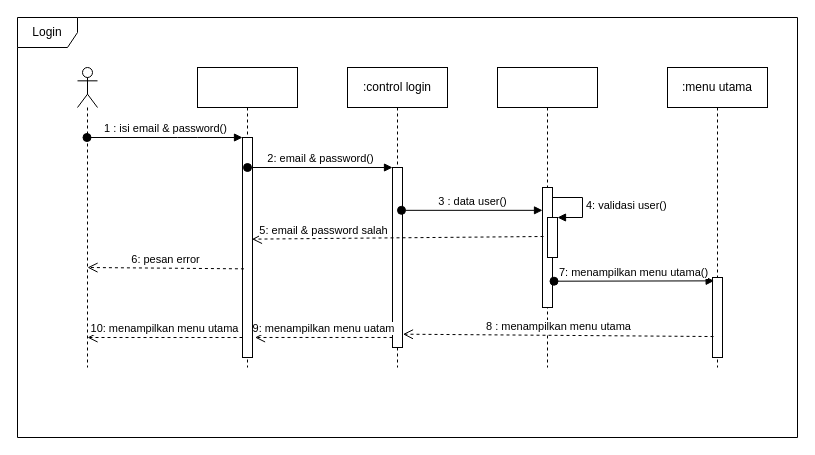
The diagram is 815 pixels wide and 455 high, and some of its shapes have lost their labels. Here are the shapes that lost their labels. From the top down, the box of each, then its label:
(196, 66, 298, 368): :form login
(496, 66, 598, 368): :data user
